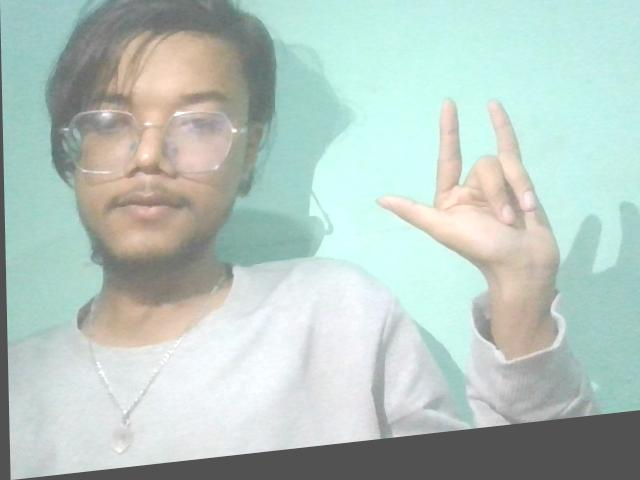I Love You: (358, 75, 603, 345)
